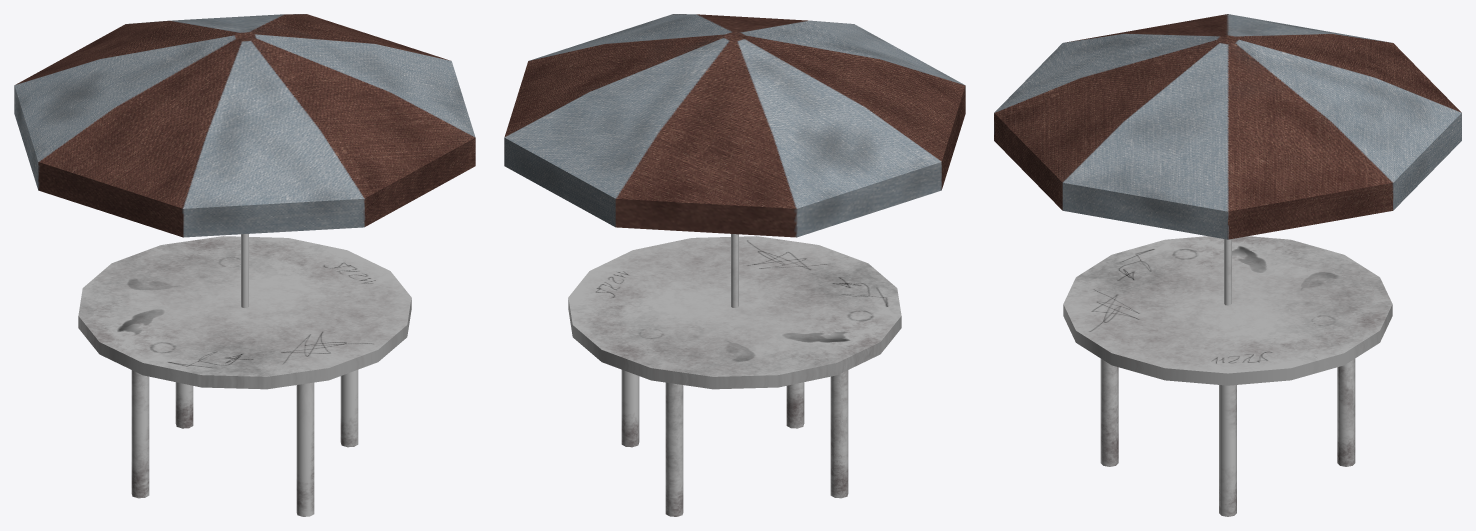
The model's file is umbrellaTable.glb.
3 renders of one model, left to right at view 1: azimuth 30°, elevation 25°; view 2: azimuth 150°, elevation 25°; view 3: azimuth 270°, elevation 25°, orthographic. The views are drawn at different scales.
Parts seen in each view (by area): view 1: SM_PlasticTable; view 2: SM_PlasticTable; view 3: SM_PlasticTable.
Part boxes in pixels (<box>): SM_PlasticTable: <box>14,14,475,516</box>; SM_PlasticTable: <box>504,14,965,516</box>; SM_PlasticTable: <box>994,14,1461,516</box>.
Bounding box in the file's own units: 2.48 × 2.48 × 2.48.
Materials: 2 (2 with a texture image).
